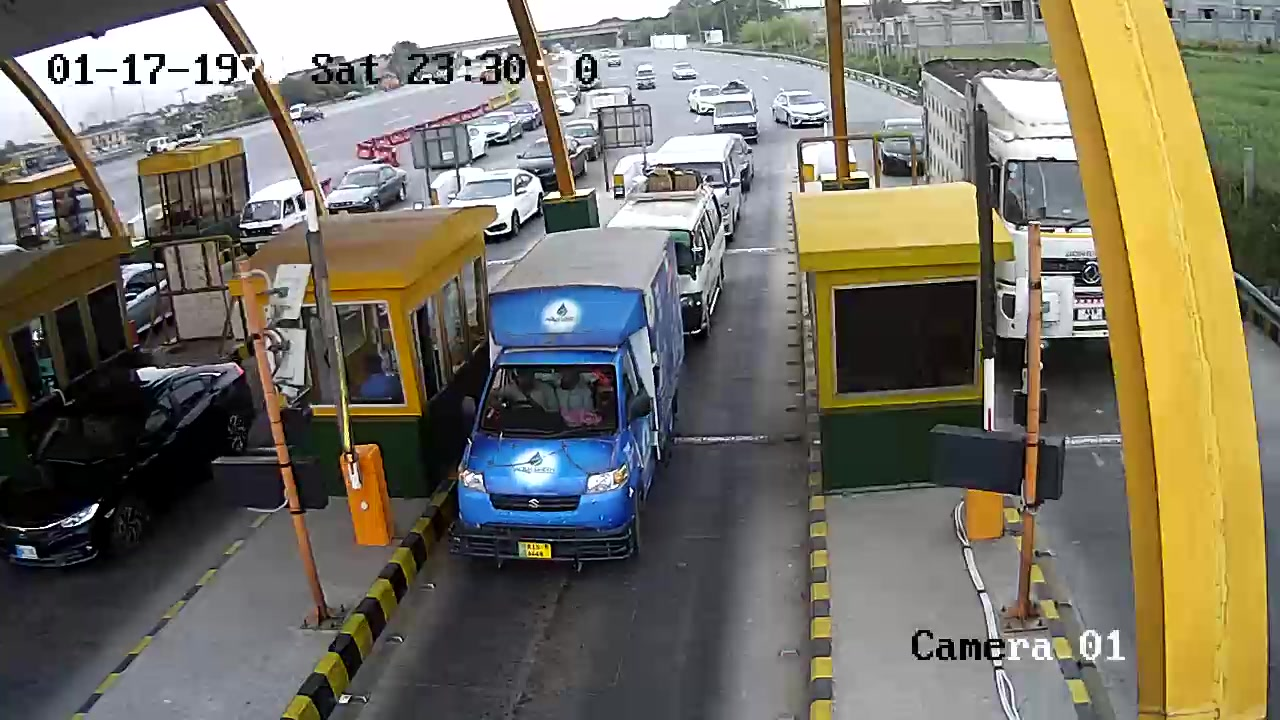F2: (443, 223, 686, 568)
